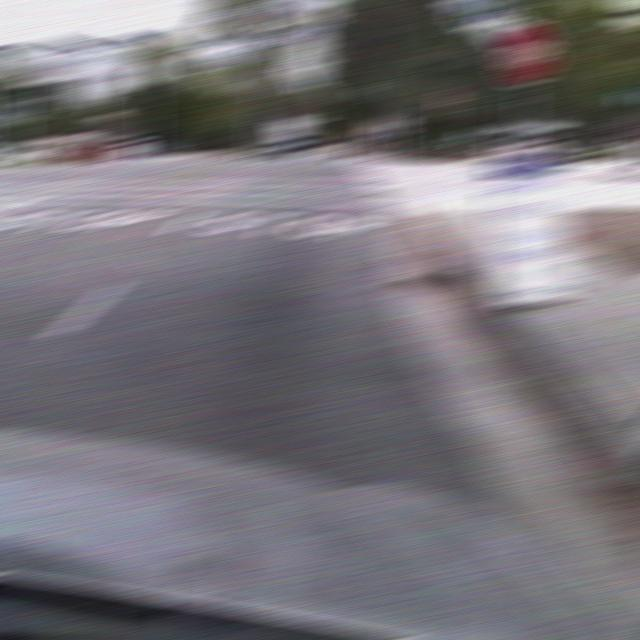stop_sign: (494, 24, 556, 86)
